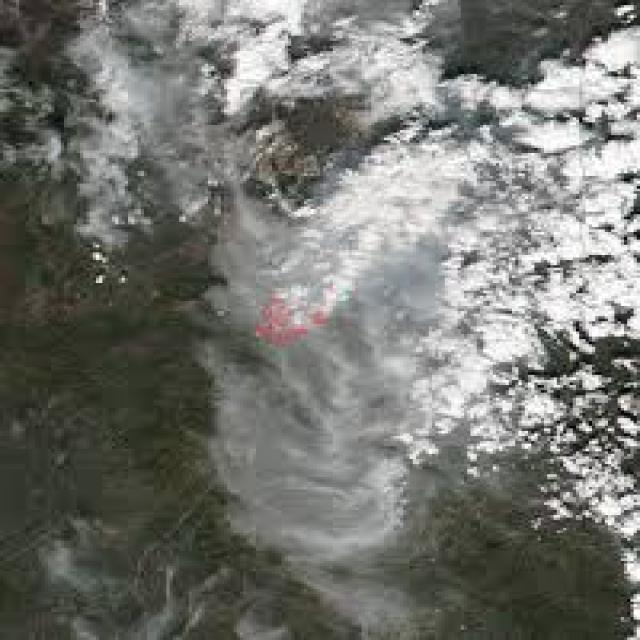Smoke: (87, 85, 616, 580)
